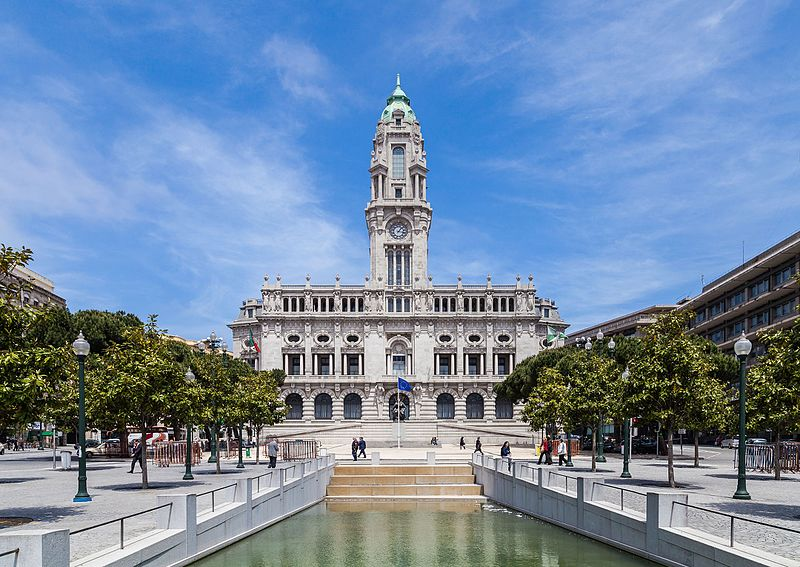camara: (227, 68, 570, 446)
